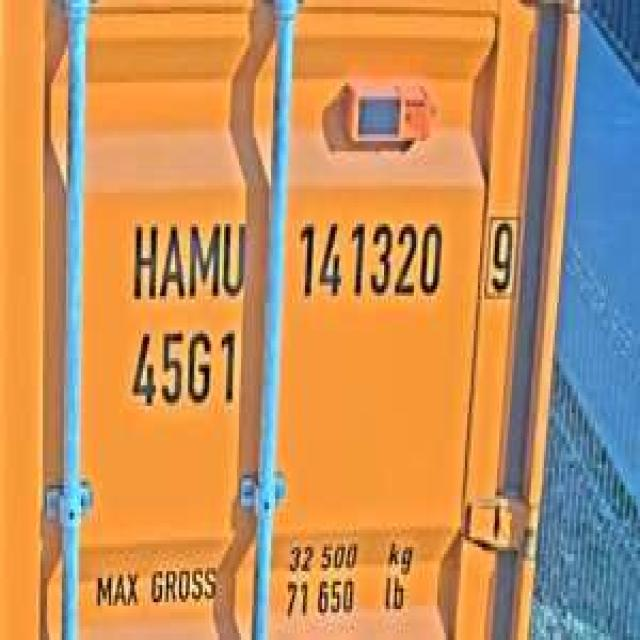dv: (478, 206, 523, 306)
owner: (126, 206, 249, 306)
serial: (290, 206, 446, 310)
size: (124, 320, 243, 416)
